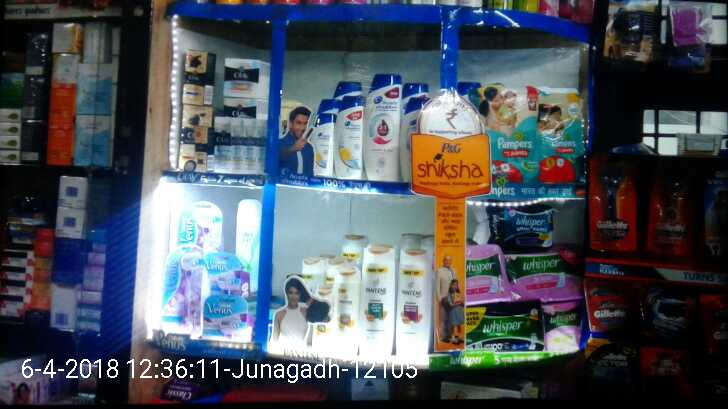venus: (159, 247, 203, 331), (178, 200, 221, 243), (201, 299, 249, 337), (206, 255, 248, 291)
